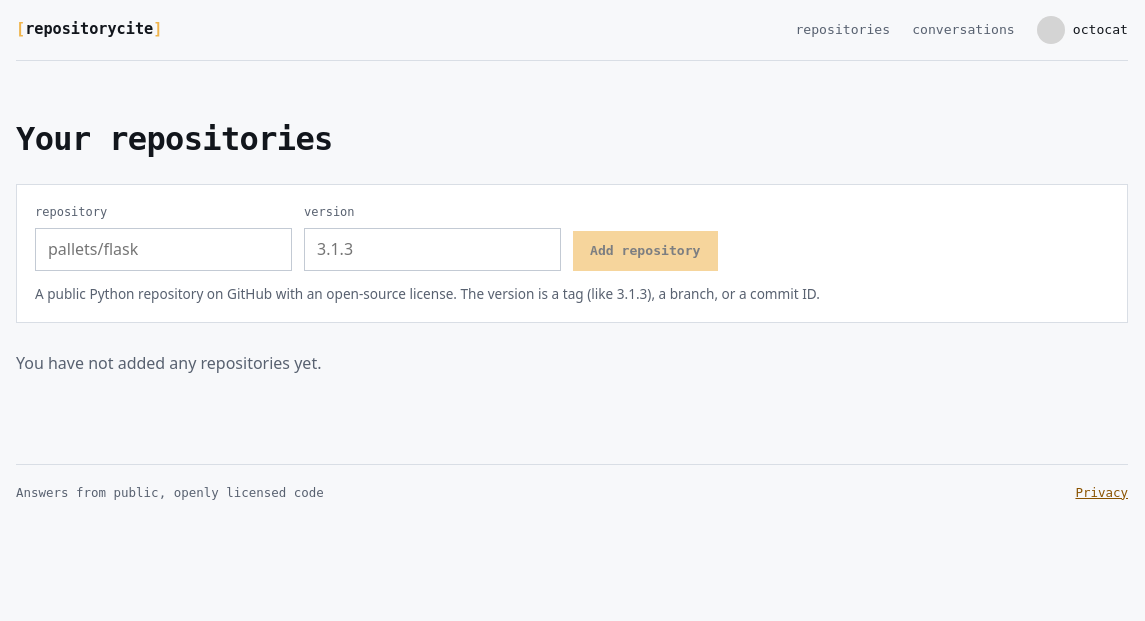
adding a repository › sends the name taken from a pasted GitHub address and shows the new link
The width and height of the screenshot is (1145, 621).
Type "https://github.com/pallets/itsdangerous" into the field labelled "Repository" at (164, 250), box [35,228,292,271]
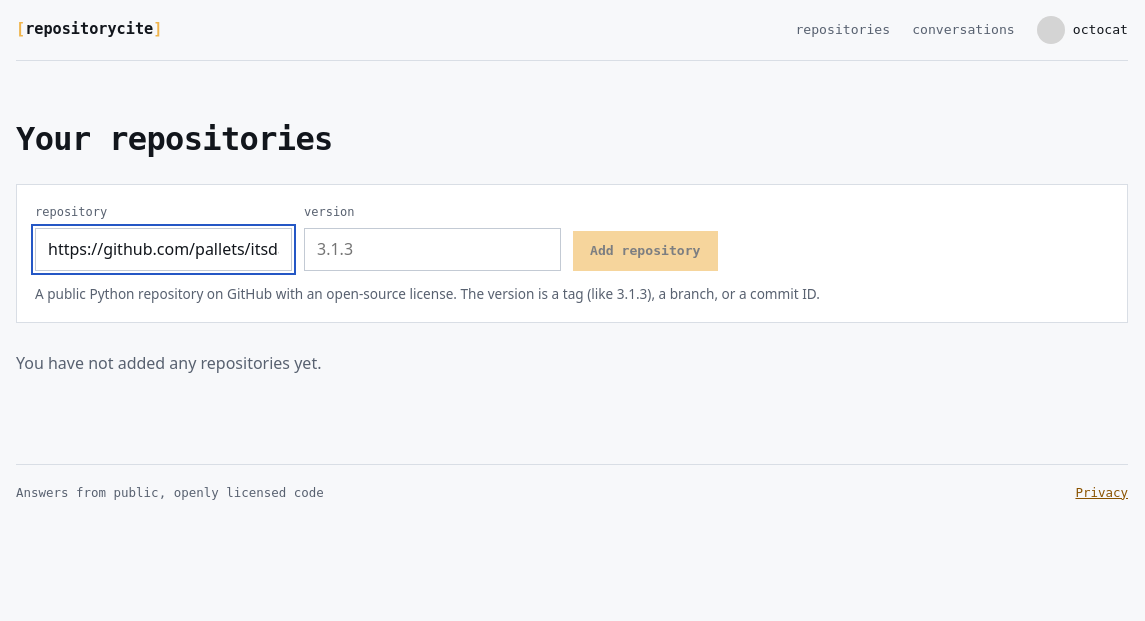
Type " 2.2.0 " into the field labelled "Version" at (432, 250), box [304,228,561,271]
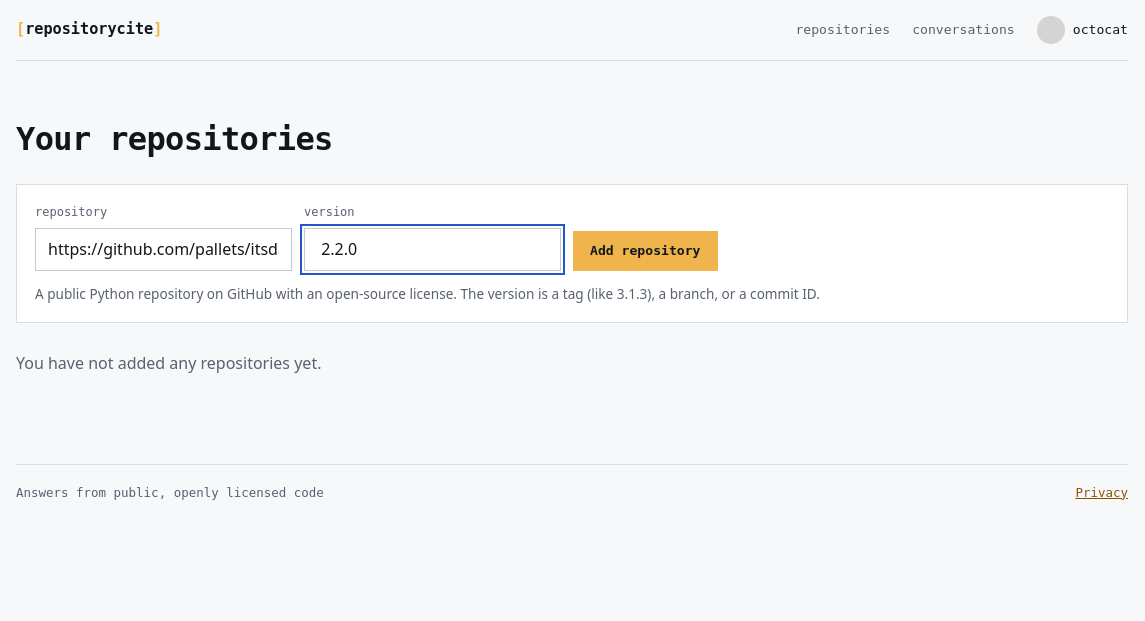
Click the button "Add repository" at (645, 251), box [573,231,718,271]
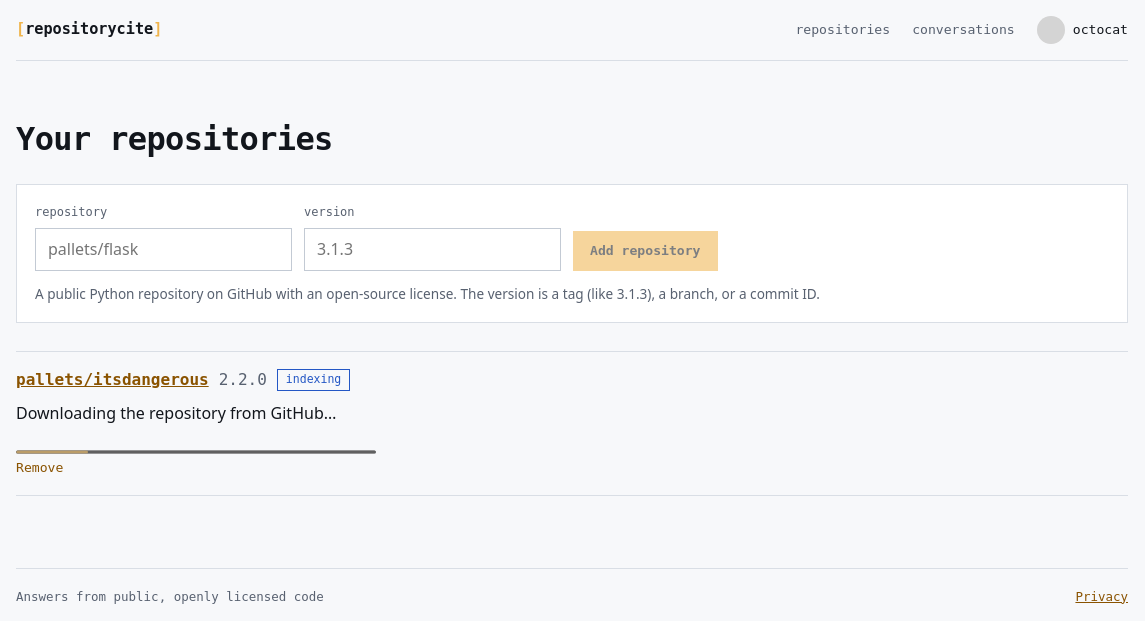
Now the text "Indexing" is shown, box [277,369,350,391]
Now the text "Downloading the repository from GitHub…" is shown, box [16,402,336,424]
Now the field labelled "Repository" is empty, box [35,228,292,271]
